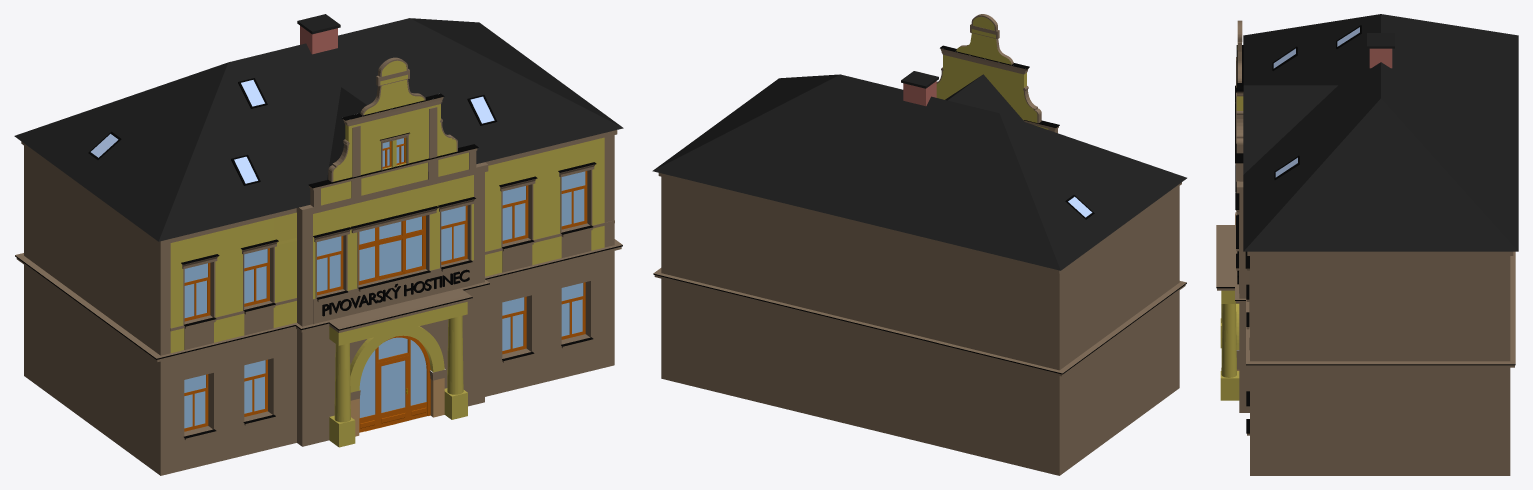
Rendered from rebel.glb.
3 views of the same model, side by side, from view 1: azimuth 30°, elevation 25°; view 2: azimuth 150°, elevation 25°; view 3: azimuth 270°, elevation 25° (orthographic). The views are drawn at different scales.
Visible parts, largest first — view 1: budova, budova.002, Cube.001, Cylinder.001, okna, Text; view 2: budova, budova.002, Cube.001; view 3: budova, budova.002, Cube.001, Cylinder.001, okna.
Boxes of the visible parts, left/top/right/bottom form: budova: left=15, top=130, right=622, bottom=475; budova.002: left=14, top=14, right=623, bottom=241; Cube.001: left=308, top=57, right=478, bottom=207; Cylinder.001: left=334, top=315, right=463, bottom=422; okna: left=88, top=78, right=497, bottom=185; Text: left=322, top=269, right=469, bottom=316; budova: left=653, top=173, right=1186, bottom=475; budova.002: left=652, top=71, right=1186, bottom=270; Cube.001: left=936, top=14, right=1059, bottom=133; budova: left=1216, top=163, right=1515, bottom=475; budova.002: left=1243, top=14, right=1518, bottom=251; Cube.001: left=1235, top=20, right=1243, bottom=181; Cylinder.001: left=1221, top=304, right=1236, bottom=377; okna: left=1272, top=25, right=1361, bottom=179.
Size of the model in its own units: 3.94 by 2.95 by 2.32.
